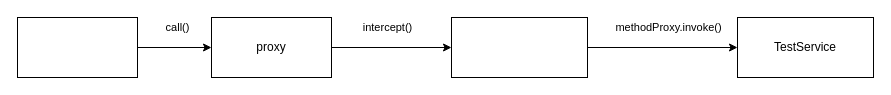
Some shapes in this 891 by 95 pixel diagram are drawn without their labels. Each missing label, with the box of its shape:
Client: (16, 16, 138, 78)
TimeMethodInterceptor: (450, 16, 588, 78)
